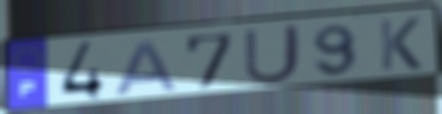4: (56, 40, 110, 103)
7: (182, 30, 236, 91)
9: (310, 22, 364, 78)
A: (112, 37, 182, 97)
K: (376, 16, 424, 73)
U: (241, 22, 303, 87)
